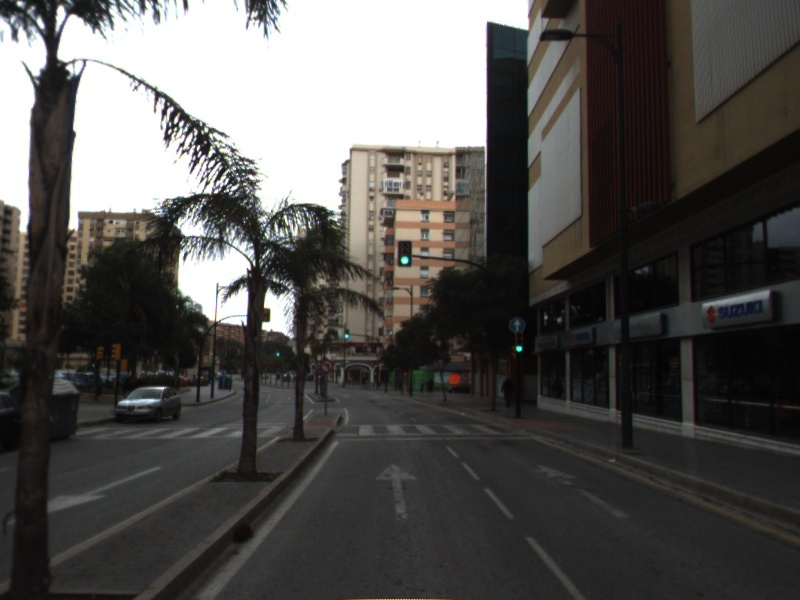STRAIGHT: (533, 461, 634, 520), (373, 461, 420, 523)
